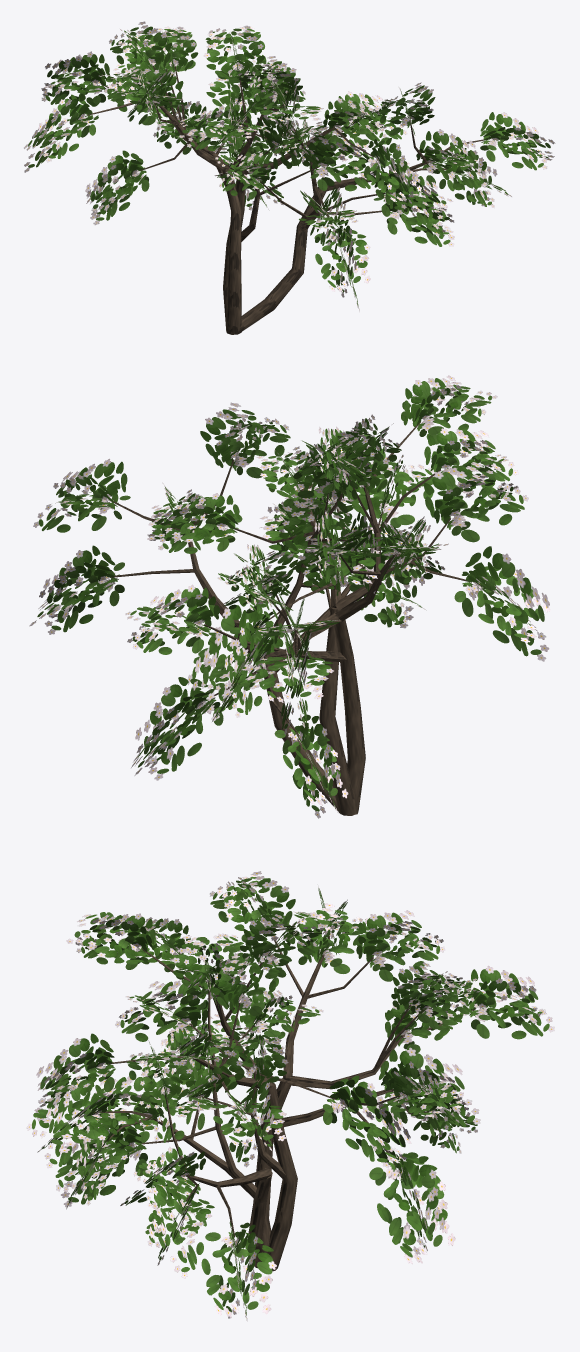
The model's file is SM_Grassland_Hawthorn_A.glb.
3 renders of one model, top to bottom at view 1: azimuth 30°, elevation 25°; view 2: azimuth 150°, elevation 25°; view 3: azimuth 270°, elevation 25°, orthographic. The views are drawn at different scales.
Parts seen in each view (by area): view 1: SM_Grassland_Hawthorn_A; view 2: SM_Grassland_Hawthorn_A; view 3: SM_Grassland_Hawthorn_A.
Boxes of the visible parts, box(x1,y1,x2,y2) form: SM_Grassland_Hawthorn_A: box(24, 21, 555, 334); SM_Grassland_Hawthorn_A: box(29, 375, 550, 818); SM_Grassland_Hawthorn_A: box(26, 871, 554, 1321).
Bounding box in the file's own units: 4.45 × 2.7 × 3.73.
Materials: 2 (2 with a texture image).
